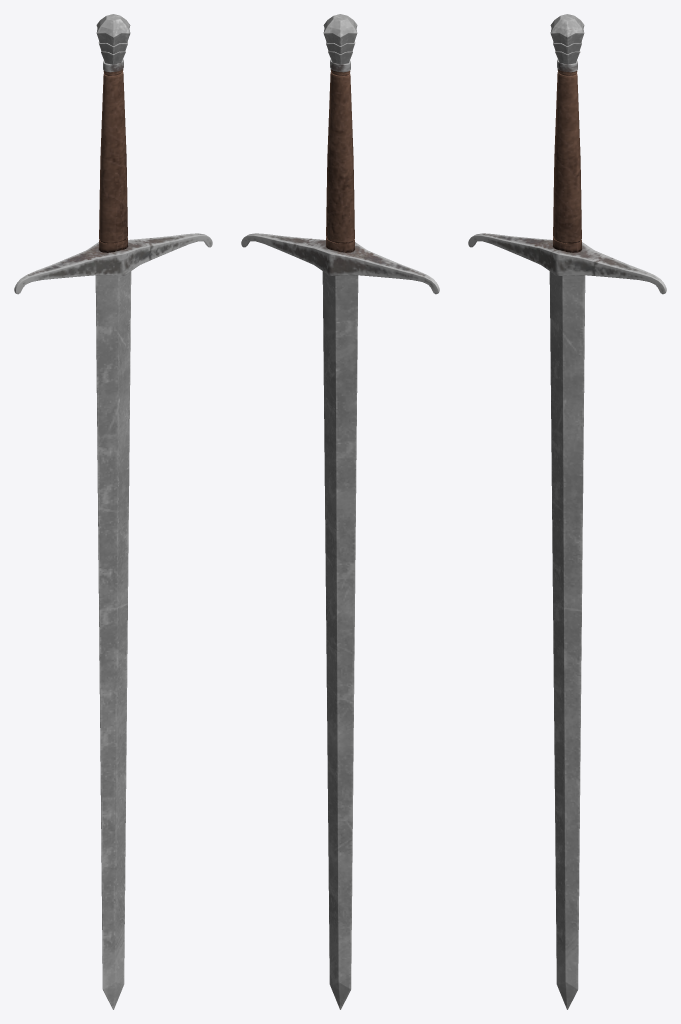
The model's file is SM_Sword_01.fbx.
3 views of the same model, side by side, from view 1: azimuth 30°, elevation 25°; view 2: azimuth 150°, elevation 25°; view 3: azimuth 330°, elevation 25° (orthographic).
Parts seen in each view (by area): view 1: SM_Sword_01_LOD0; view 2: SM_Sword_01_LOD0; view 3: SM_Sword_01_LOD0.
Part boxes in pixels (x1,y1,x2,y2): SM_Sword_01_LOD0: [14, 14, 212, 1009]; SM_Sword_01_LOD0: [241, 14, 439, 1009]; SM_Sword_01_LOD0: [468, 14, 666, 1009].
Bounding box in the file's own units: 25.31 × 4.55 × 122.
